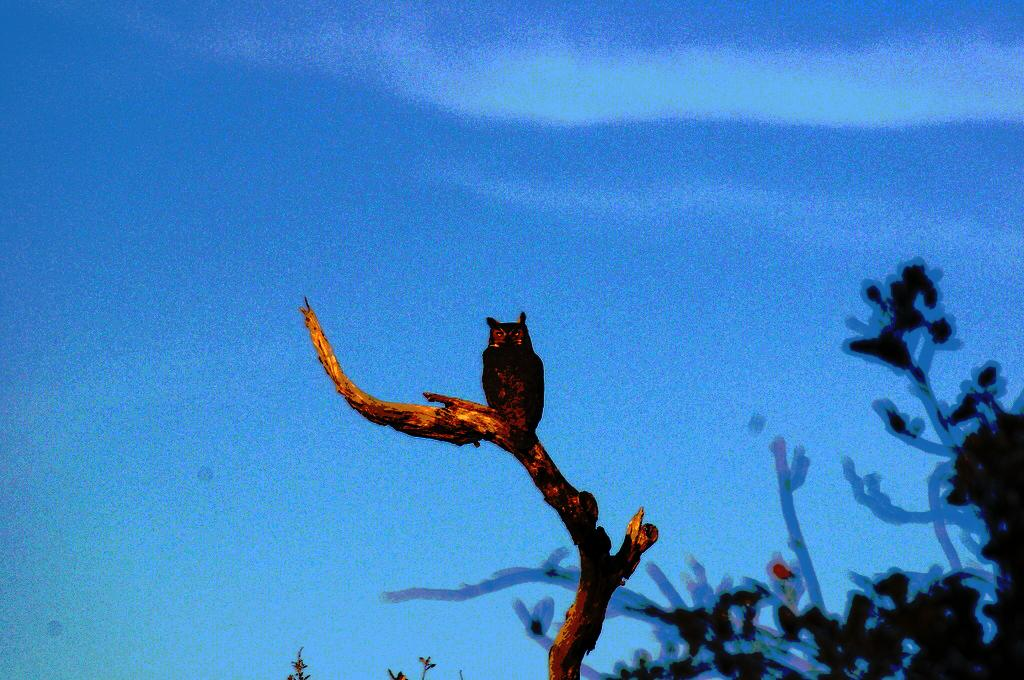Owl: (484, 312, 546, 452)
